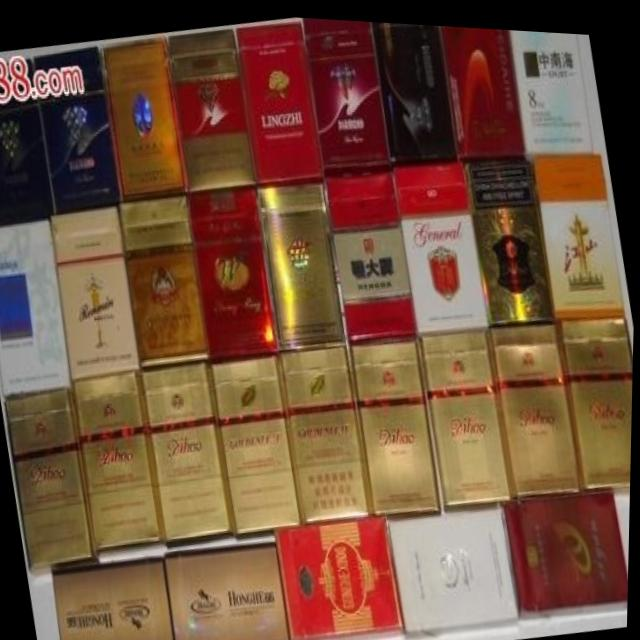box: (389, 498, 522, 631), (279, 340, 377, 520), (142, 358, 237, 543), (72, 367, 166, 553), (6, 386, 98, 575), (419, 322, 516, 501), (277, 509, 406, 640), (489, 313, 583, 490), (325, 164, 419, 338), (393, 157, 489, 327), (213, 349, 302, 532), (350, 331, 442, 508), (188, 182, 280, 359), (119, 191, 211, 367), (505, 482, 630, 611), (464, 150, 556, 322), (52, 204, 141, 380), (258, 177, 348, 348), (531, 148, 625, 311), (236, 14, 325, 180), (168, 25, 258, 189), (33, 45, 121, 212), (301, 14, 393, 173), (102, 34, 188, 199), (559, 308, 634, 485), (0, 217, 72, 397), (370, 17, 460, 160), (167, 539, 293, 640), (438, 20, 525, 155), (54, 554, 177, 640), (509, 24, 594, 147), (0, 58, 54, 223)
